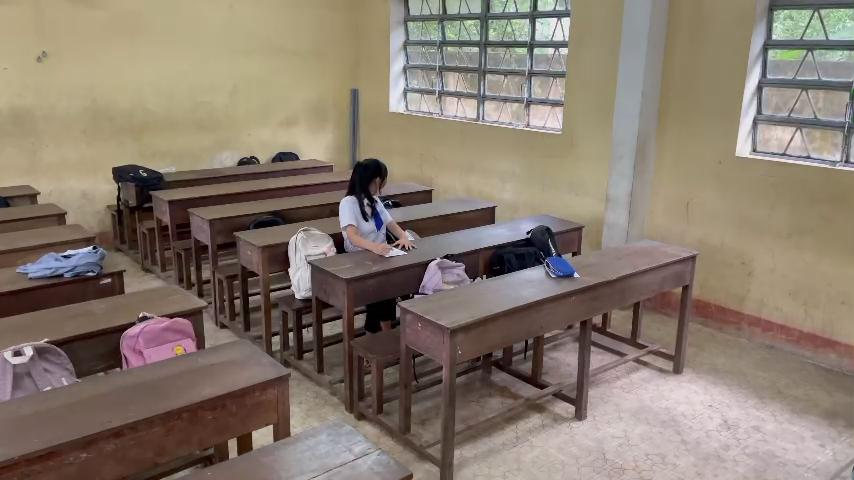Look Around: (347, 152, 391, 200)
